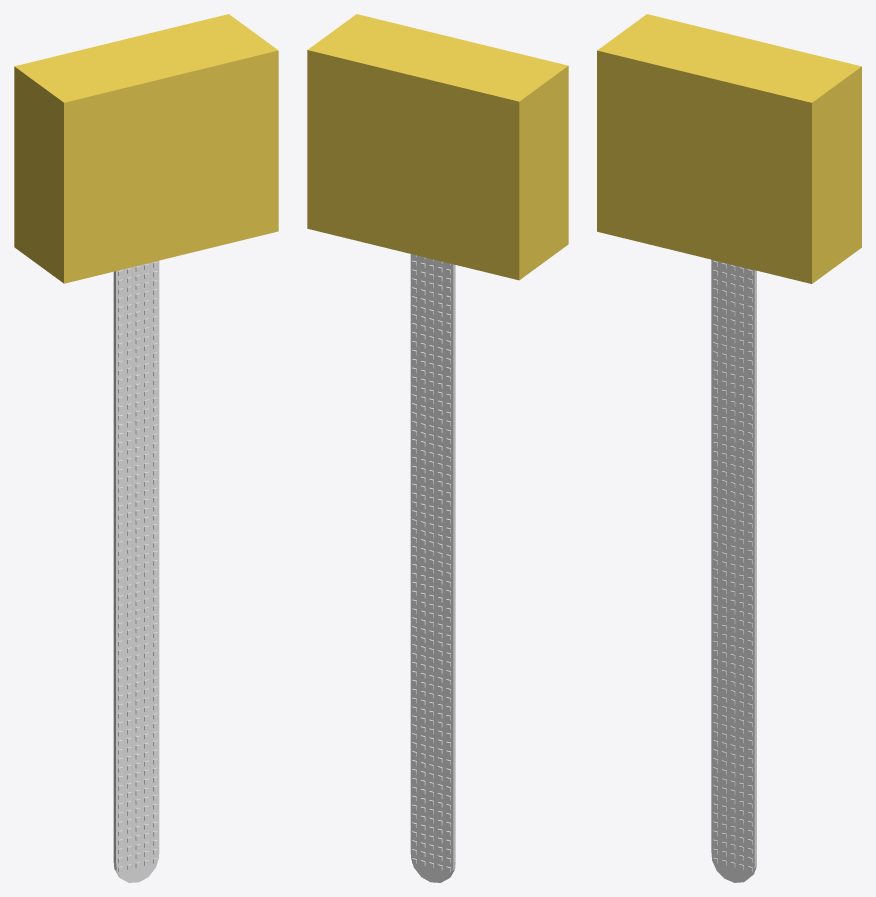
3 renders of one model, left to right at view 1: azimuth 30°, elevation 25°; view 2: azimuth 150°, elevation 25°; view 3: azimuth 330°, elevation 25°, orthographic.
Parts seen in each view (by area): view 1: lizatko; view 2: lizatko; view 3: lizatko.
Part boxes in pixels (x1,y1,x2,y2): lizatko: (14,14,278,882); lizatko: (307,14,568,882); lizatko: (597,14,861,882).
Bounding box in the file's own units: 0.4972 × 1.83 × 0.2.
